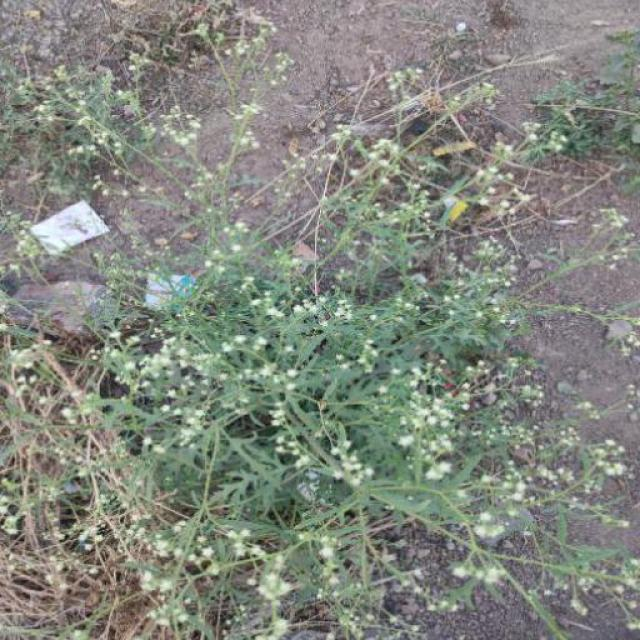weed: (28, 114, 570, 620)
